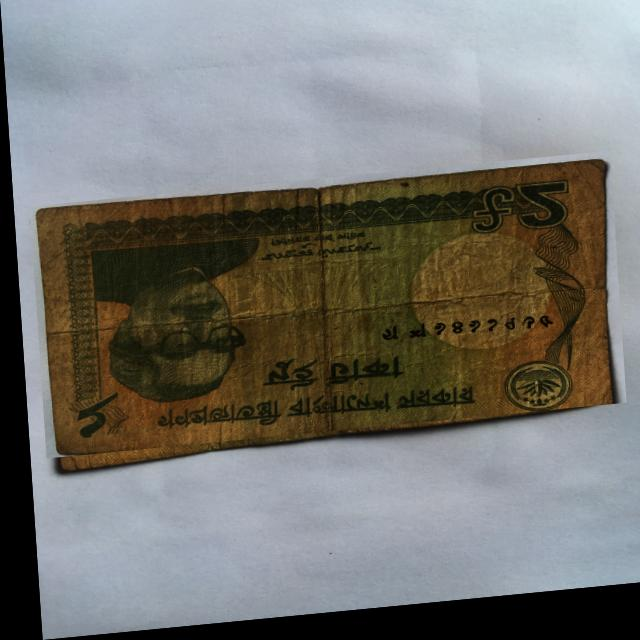Taka: (27, 163, 620, 459)
